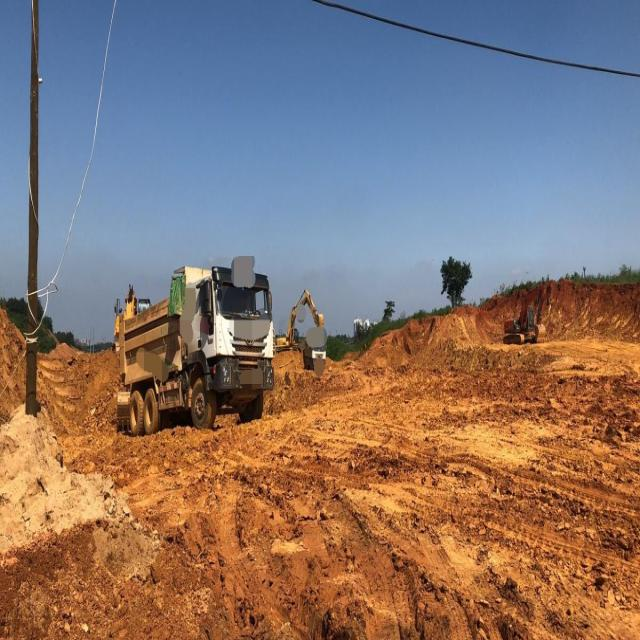excavator: (500, 276, 554, 353), (272, 285, 327, 356), (107, 278, 153, 356)
truck: (102, 252, 278, 445)
